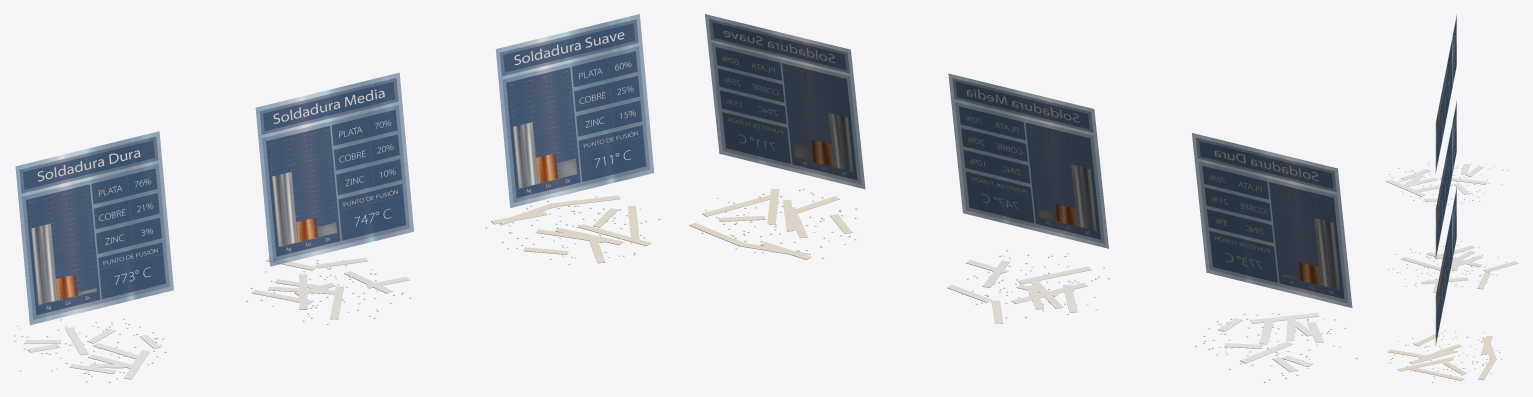
The model's file is soldadura.glb.
The picture shows the model from 3 angles, left to right: view 1: azimuth 30°, elevation 25°; view 2: azimuth 150°, elevation 25°; view 3: azimuth 270°, elevation 25°; orthographic projection. The views are drawn at different scales.
Parts seen in each view (by area): view 1: Plane, Plane.001, Plane.002; view 2: Plane.001, Plane, Plane.002; view 3: Plane.001, Plane, Plane.002, suave_Placa_9, suave_Placa_2, suave_Placa_0, dura_Placa_8, suave_Placa_1, media_Placa_7, suave_Placa_5, dura_Placa_9, media_Placa_2 (+3 smaller).
Boxes of the visible parts, box(x1,y1,x2,y2) form: Plane: box(15, 131, 173, 325); Plane.001: box(255, 73, 413, 266); Plane.002: box(495, 14, 654, 207); Plane.001: box(948, 73, 1108, 248); Plane: box(1192, 133, 1352, 307); Plane.002: box(705, 14, 865, 188); Plane.001: box(1435, 101, 1456, 259); Plane: box(1435, 15, 1456, 173); Plane.002: box(1435, 187, 1456, 345); suave_Placa_9: box(1397, 357, 1453, 371); suave_Placa_2: box(1409, 367, 1464, 380); suave_Placa_0: box(1409, 350, 1456, 364); dura_Placa_8: box(1386, 179, 1425, 196); suave_Placa_1: box(1418, 344, 1461, 360); media_Placa_7: box(1401, 257, 1450, 271); suave_Placa_5: box(1478, 358, 1496, 380); dura_Placa_9: box(1440, 176, 1487, 184); media_Placa_2: box(1426, 252, 1481, 267).
Size of the model in its own units: 0.6629 by 0.1936 by 0.1628.
6 materials, 3 textured.
